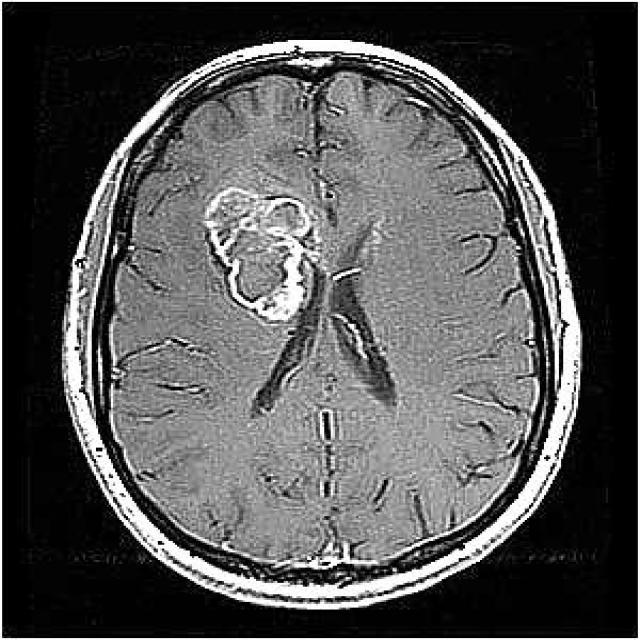brain tumor: (203, 189, 307, 322)
